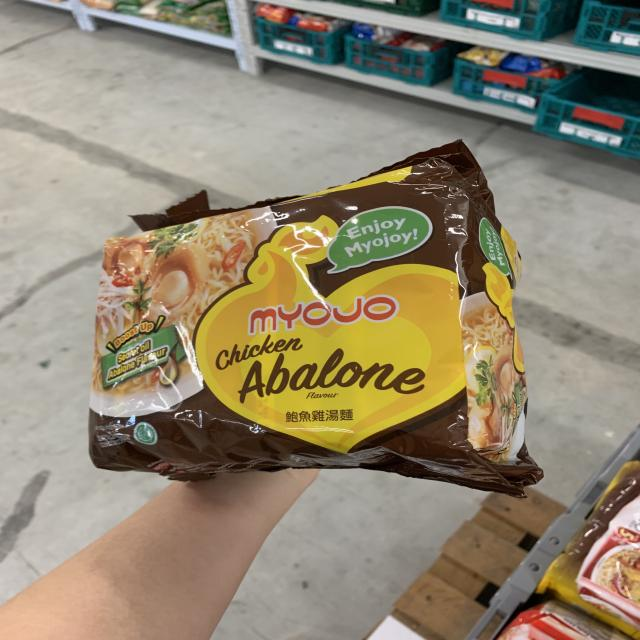object_name: (94, 209, 507, 468)
